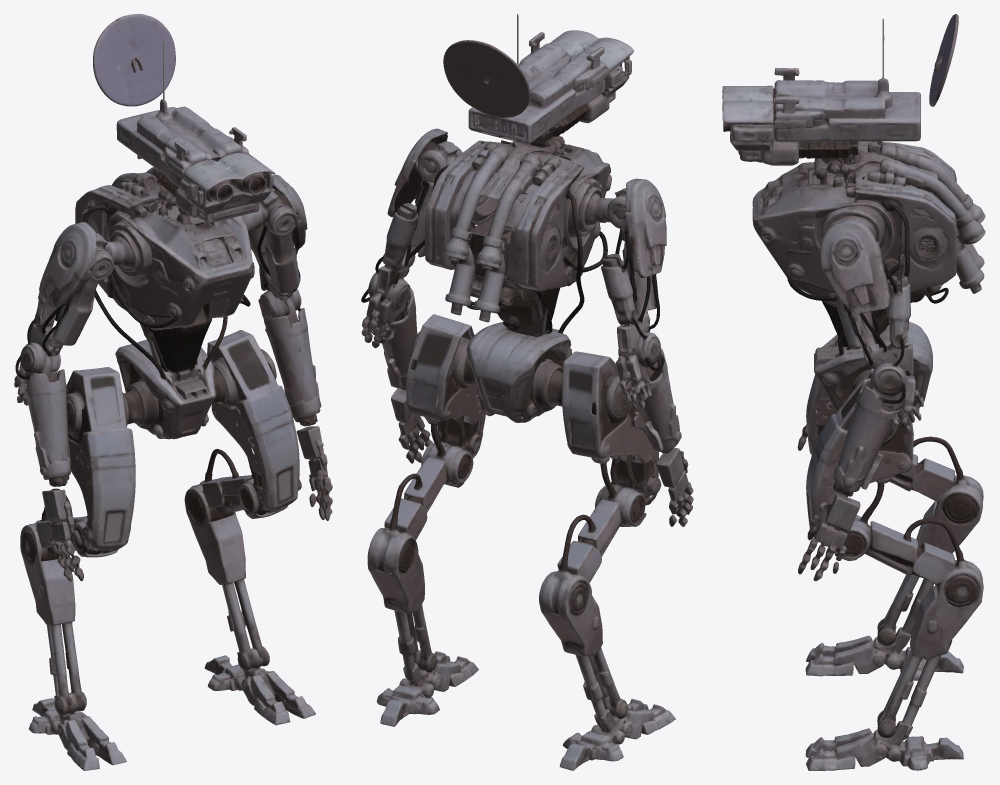
The model's file is sample_2026-08-16T103740.668.glb.
3 renders of one model, left to right at view 1: azimuth 30°, elevation 25°; view 2: azimuth 150°, elevation 25°; view 3: azimuth 270°, elevation 25°, orthographic. The views are drawn at different scales.
Visible parts, largest first — view 1: geometry_0; view 2: geometry_0; view 3: geometry_0.
Part boxes in pixels (x1=…): geometry_0: x1=14, y1=14, x2=332, y2=770; geometry_0: x1=361, y1=14, x2=693, y2=770; geometry_0: x1=722, y1=14, x2=985, y2=770.
Size of the model in its own units: 0.4371 by 0.9991 by 0.343.
1 material, 1 textured.
